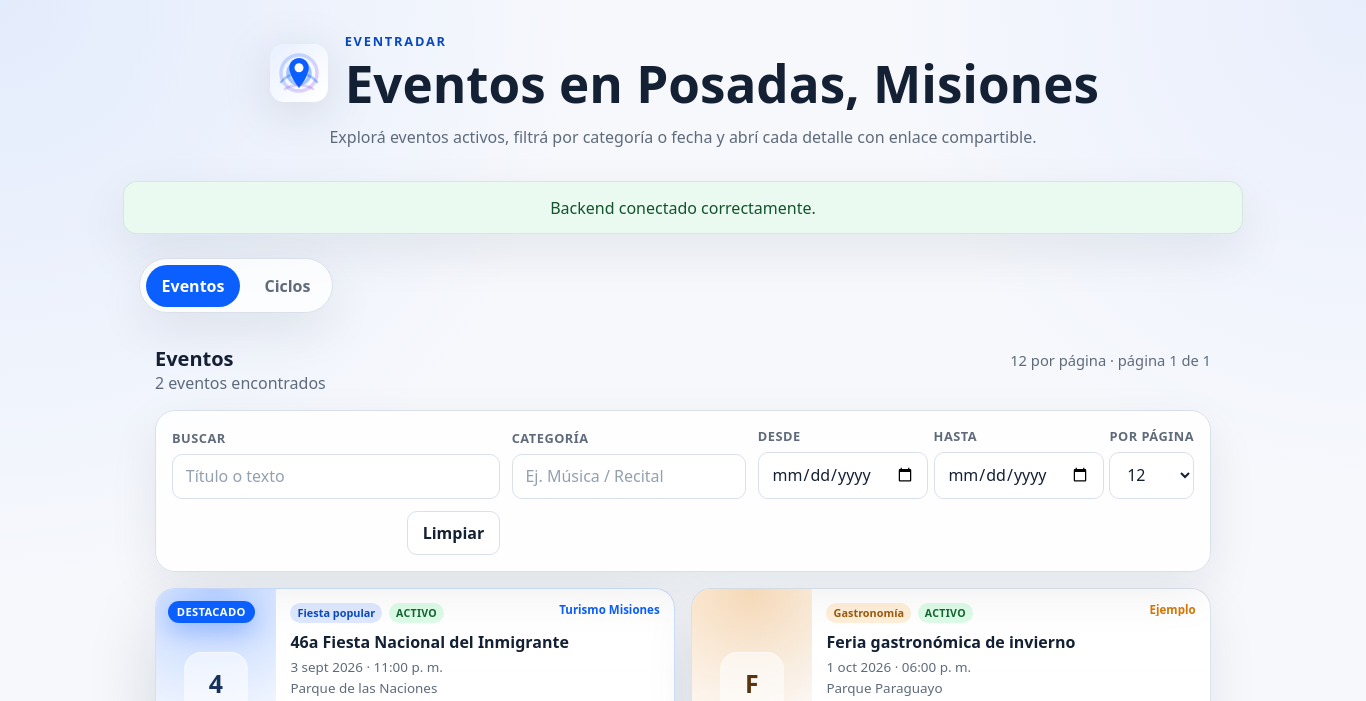
App › permite filtrar desde el listado
This screenshot has width=1366, height=701.
expect the text "Backend conectado correctamente." is shown: met, box [123,181,1243,234]
Type "feria" into the search field.
click(336, 476); type("feria")  # box [172,454,500,499]
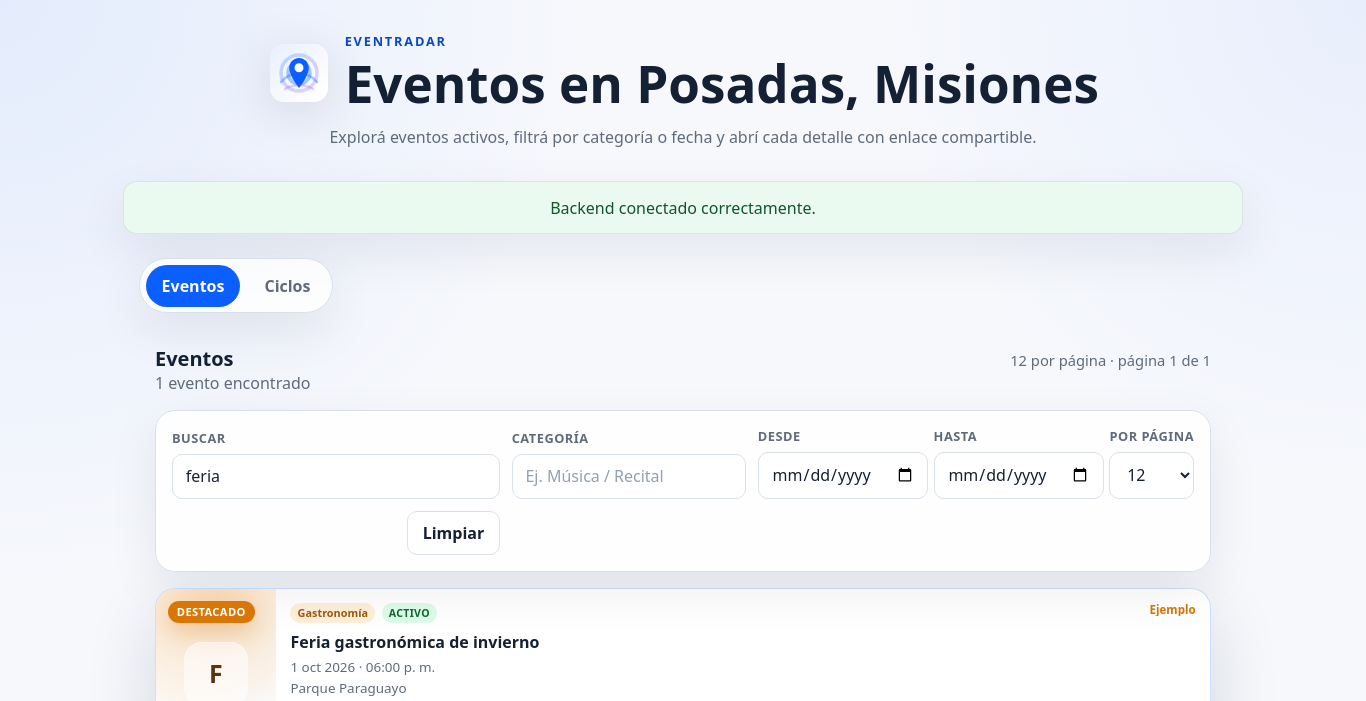
expect the heading "Feria gastronómica de invierno" is shown: met, box [290,631,540,653]
expect the heading "46a Fiesta Nacional del Inmigrante" is gone: met
